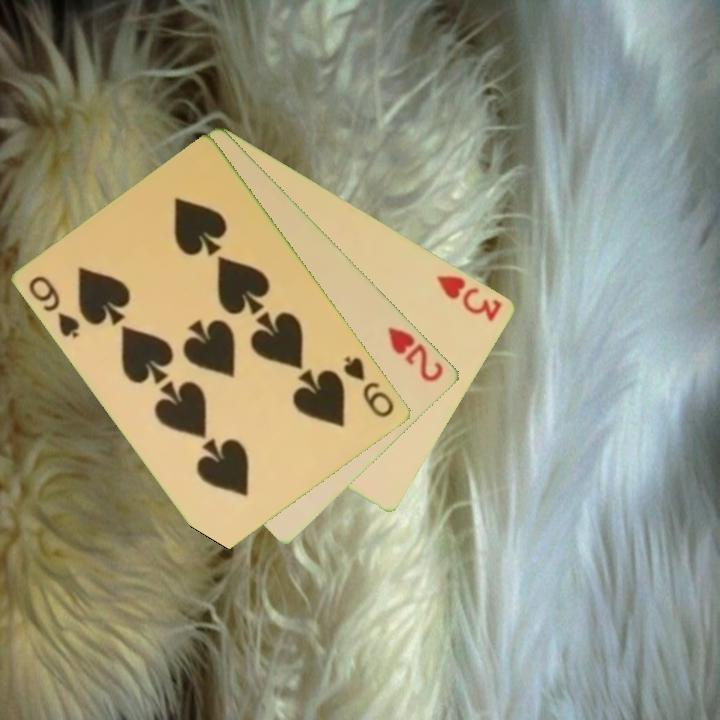2h: (384, 323, 447, 385)
3h: (433, 271, 505, 325)
9s: (25, 272, 84, 341), (340, 352, 398, 421)
